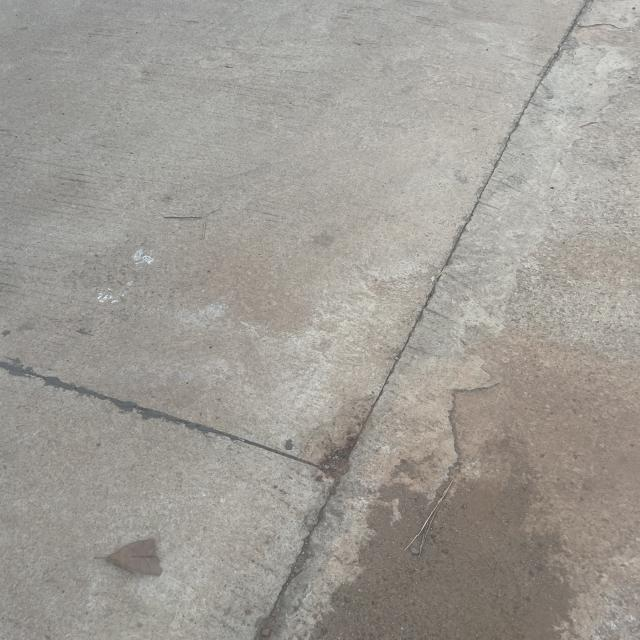D43: (206, 40, 612, 602)
